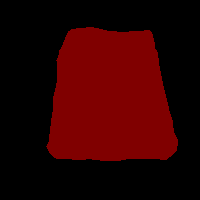mutande: (46, 27, 178, 161)
